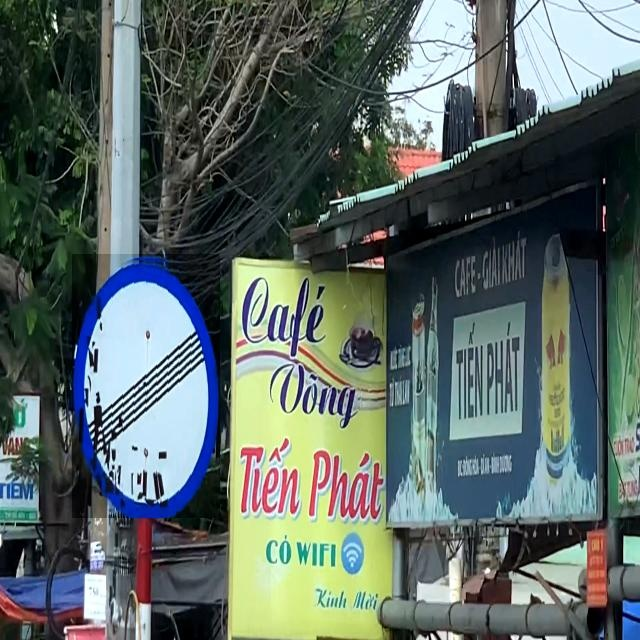bien_cam: (72, 254, 220, 518)
